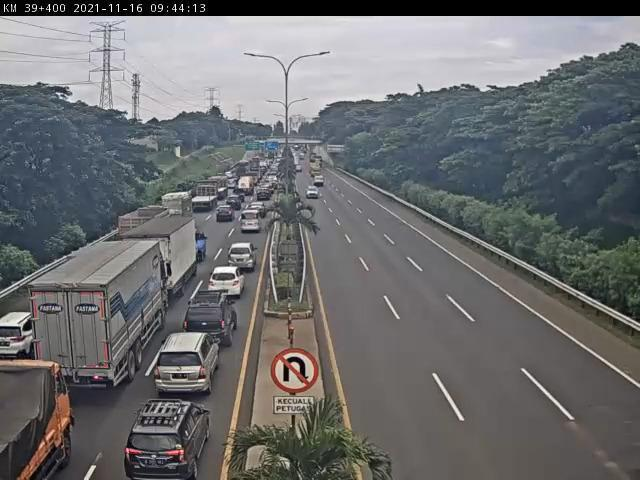car: (123, 402, 220, 480), (154, 330, 228, 392), (185, 290, 239, 341), (2, 310, 41, 361), (232, 238, 263, 273), (211, 262, 244, 292), (241, 208, 261, 235), (216, 205, 240, 227), (247, 200, 269, 219), (306, 185, 322, 203), (314, 175, 329, 188)
truck: (35, 239, 163, 400), (2, 350, 81, 480), (134, 214, 201, 292), (118, 206, 174, 269)
